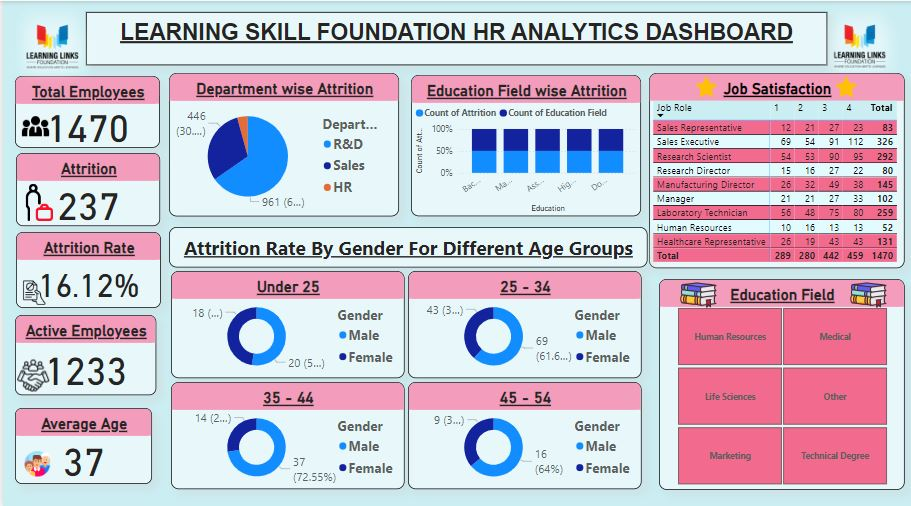

The dashboard page shown, as its layout file describes it:
{"tool":"powerbi","page":{"name":"Page 1","canvas":[1280,720],"ordinal":0},"visuals":[{"type":"textbox","box":[116.9,19.7,1043.7,74.6],"z":0},{"type":"image","box":[1137.3,0,143.1,129.4],"z":1000},{"type":"card","title":"Total Employees","fields":{"Values":["Sum(HR data.Employee Count)"]},"box":[17.1,110,204.3,101.4],"z":2000},{"type":"card","title":"Attrition","fields":{"Values":["Sum(HR data.Attribution Count)"]},"box":[19,219,203.4,103.4],"z":3000},{"type":"card","title":"Attrition Rate","fields":{"Values":["HR data.AttributionRate"]},"box":[18.6,330,204.3,107.1],"z":4000},{"type":"card","title":"Active Employees","fields":{"Values":["HR data.ActiveEmployee"]},"box":[17.1,447.1,198.6,112.9],"z":5000},{"type":"card","title":"Average Age","fields":{"Values":["HR data.AverageAge"]},"box":[17.1,577.1,192.9,107.1],"z":6000},{"type":"pieChart","title":"Department wise Attrition","fields":{"Category":["HR data.Department"],"Y":["CountNonNull(HR data.Attrition)"]},"box":[234.5,105.2,324.1,201.7],"z":7000},{"type":"pieChart","title":"Education Field wise Attrition","fields":{"Category":["HR data.Education"],"Y":["CountNonNull(HR data.Attrition)"]},"box":[574.3,108.6,324.3,198.6],"z":8000},{"type":"pivotTable","title":"Job Satisfaction","fields":{"Rows":["HR data.Job Role"],"Columns":["HR data.Job Satisfaction"],"Values":["Sum(HR data.Employee Count)"]},"box":[910,105,360,275],"z":9000},{"type":"textbox","box":[234.3,322.9,674.3,57.1],"z":10000},{"type":"slicer","title":"Education Field","fields":{"Values":["HR data.Education Field"]},"box":[924.3,395.7,345.7,297.1],"z":11000},{"type":"donutChart","title":"Under 25","fields":{"Category":["HR data.Gender"],"Y":["Sum(HR data.Attribution Count)"],"Series":["HR data.CF_age band"]},"box":[237.1,384.3,328.6,151.4],"z":12000},{"type":"donutChart","title":"25 - 34","fields":{"Category":["HR data.Gender"],"Y":["Sum(HR data.Attribution Count)"],"Series":["HR data.CF_age band"]},"box":[570,384.3,328.6,151.4],"z":13000},{"type":"donutChart","title":"35 - 44","fields":{"Category":["HR data.Gender"],"Y":["Sum(HR data.Attribution Count)"],"Series":["HR data.CF_age band"]},"box":[237.1,541.4,328.6,151.4],"z":14000},{"type":"donutChart","title":"45 - 54","fields":{"Category":["HR data.Gender"],"Y":["Sum(HR data.Attribution Count)"],"Series":["HR data.CF_age band"]},"box":[570,541.4,328.6,151.4],"z":15000},{"type":"image","box":[0,0,142.3,129.6],"z":16000},{"type":"image","box":[18.3,154.9,54.9,50.7],"z":17000},{"type":"image","box":[18.3,254.9,66.2,66.2],"z":18000},{"type":"image","box":[16.9,393,53.5,43.7],"z":19000},{"type":"image","box":[14.1,504.2,56.3,54.9],"z":20000},{"type":"image","box":[25.4,631,46.5,49.3],"z":21000},{"type":"image","box":[1166.2,105.6,42.3,39.4],"z":22000},{"type":"image","box":[969,105.6,42.3,39.4],"z":23000},{"type":"image","box":[947.9,380.3,63.4,60.6],"z":24000},{"type":"image","box":[1187.3,380.3,63.4,60.6],"z":25000}]}

Visuals, with their boxes in screenshot pixels (x1, y1, x2, y2), scaled from the page's 1280x720 canvas onto the 911x506 screenshot:
textbox: (83,14,826,66)
image: (809,0,910,91)
"Total Employees" card: (12,77,158,149)
"Attrition" card: (14,154,158,227)
"Attrition Rate" card: (13,232,159,307)
"Active Employees" card: (12,314,154,394)
"Average Age" card: (12,406,149,481)
"Department wise Attrition" pieChart: (167,74,398,216)
"Education Field wise Attrition" pieChart: (409,76,640,216)
"Job Satisfaction" pivotTable: (648,74,904,267)
textbox: (167,227,647,267)
"Education Field" slicer: (658,278,904,487)
"Under 25" donutChart: (169,270,403,376)
"25 - 34" donutChart: (406,270,640,376)
"35 - 44" donutChart: (169,380,403,487)
"45 - 54" donutChart: (406,380,640,487)
image: (0,0,101,91)
image: (13,109,52,144)
image: (13,179,60,226)
image: (12,276,50,307)
image: (10,354,50,393)
image: (18,443,51,478)
image: (830,74,860,102)
image: (690,74,720,102)
image: (675,267,720,310)
image: (845,267,890,310)
